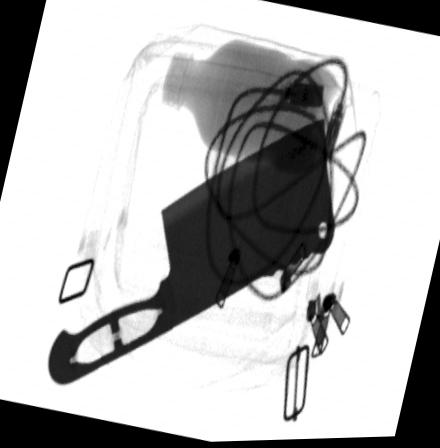Knife: (44, 118, 336, 389)
